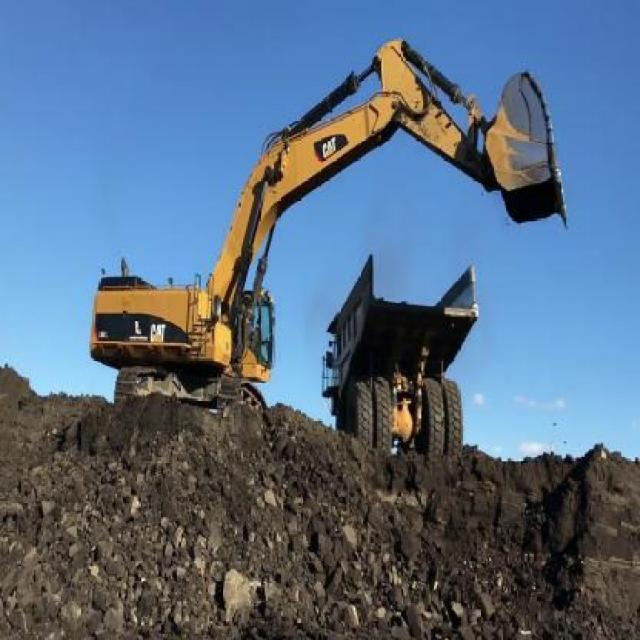Dump Truck: (319, 252, 479, 454)
Excavator: (90, 30, 568, 418)
